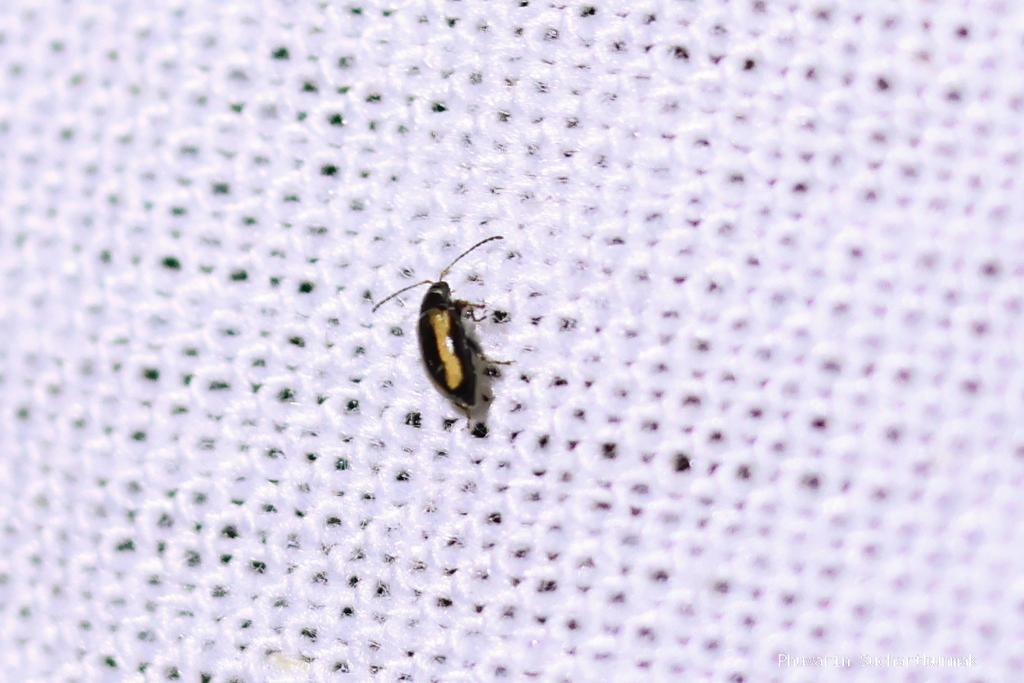flea_beetle: (349, 215, 538, 471)
